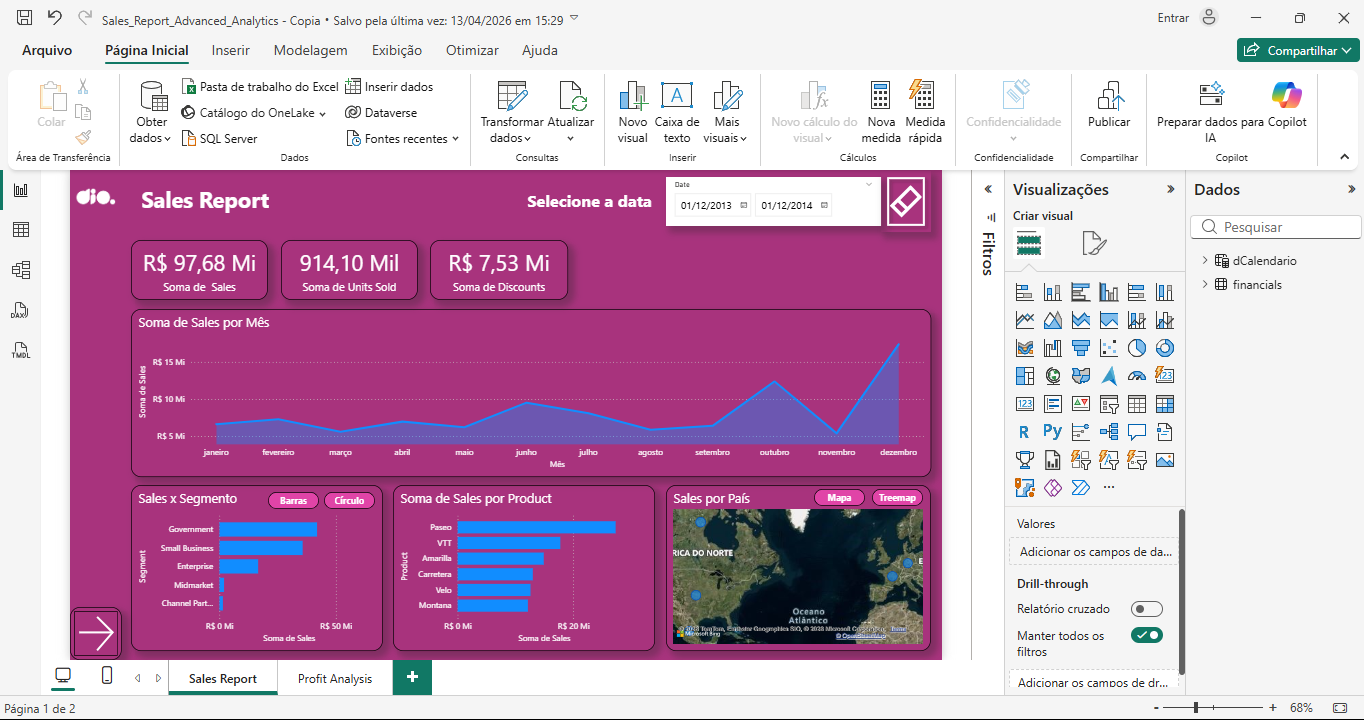

The dashboard page shown, as its layout file describes it:
{"tool":"powerbi","page":{"name":"Sales Report","canvas":[1280,720],"ordinal":0},"visuals":[{"type":"card","fields":{"Values":["Sum(financials. Sales)"]},"box":[89.6,102.9,201.3,88.2],"z":0},{"type":"card","fields":{"Values":["Sum(financials.Units Sold)"]},"box":[310,102.9,201.3,88.2],"z":1000},{"type":"card","fields":{"Values":["Sum(financials.Discounts)"]},"box":[529,102.9,202.8,88.2],"z":2000},{"type":"areaChart","fields":{"Category":["dCalendario.Date.Variation.Hierarquia de datas.Mês"],"Y":["Sum(financials. Sales)"]},"box":[89.6,204.2,1175.5,246.9],"z":3000},{"type":"clusteredBarChart","fields":{"Category":["financials.Product"],"Y":["Sum(financials. Sales)"]},"box":[474.6,462.9,385,243.9],"z":4000},{"type":"actionButton","box":[0,642.3,76.2,77.7],"z":5000},{"type":"textbox","box":[667.1,23.5,196.9,45.6],"z":6000},{"type":"slicer","fields":{"Values":["dCalendario.Date"]},"box":[875.8,10.3,315.9,72],"z":7000},{"type":"actionButton","box":[1191.7,1.5,73.5,89.6],"z":8000},{"type":"image","box":[0,0,76.2,77.7],"z":9000},{"type":"barChart","title":"Sales x Segmento","fields":{"Category":["financials.Segment"],"Y":["Sum(financials. Sales)"]},"box":[89.6,462.9,370.3,243.9],"z":10000},{"type":"actionButton","box":[290.9,473.1,74.9,25],"z":12000},{"type":"actionButton","box":[373.2,473.1,74.9,25],"z":13000},{"type":"map","title":"Sales por País","fields":{"Category":["financials.Country"],"Size":["Sum(financials. Sales)"]},"box":[875.8,462.9,389.4,243.9],"z":14000},{"type":"actionButton","box":[1093.2,468.7,74.9,25],"z":16000},{"type":"actionButton","box":[1178.4,468.7,74.9,25],"z":17000},{"type":"textbox","box":[99.9,16.2,213.1,61.7],"z":18000}]}

Visuals, with their boxes on the page's 1280x720 design canvas (x1, y1, x2, y2). These are canvas units, not pixel positions in the 1364x720 screenshot, which may show the page scaled, cropped or inside an application window:
card - Sum(financials. Sales): [left=90, top=103, right=291, bottom=191]
card - Sum(financials.Units Sold): [left=310, top=103, right=511, bottom=191]
card - Sum(financials.Discounts): [left=529, top=103, right=732, bottom=191]
areaChart - dCalendario.Date.Variation.Hierarquia de datas.Mês x Sum(financials. Sales): [left=90, top=204, right=1265, bottom=451]
clusteredBarChart - financials.Product x Sum(financials. Sales): [left=475, top=463, right=860, bottom=707]
actionButton: [left=0, top=642, right=76, bottom=720]
textbox: [left=667, top=24, right=864, bottom=69]
slicer - dCalendario.Date: [left=876, top=10, right=1192, bottom=82]
actionButton: [left=1192, top=2, right=1265, bottom=91]
image: [left=0, top=0, right=76, bottom=78]
"Sales x Segmento" barChart: [left=90, top=463, right=460, bottom=707]
actionButton: [left=291, top=473, right=366, bottom=498]
actionButton: [left=373, top=473, right=448, bottom=498]
"Sales por País" map: [left=876, top=463, right=1265, bottom=707]
actionButton: [left=1093, top=469, right=1168, bottom=494]
actionButton: [left=1178, top=469, right=1253, bottom=494]
textbox: [left=100, top=16, right=313, bottom=78]
